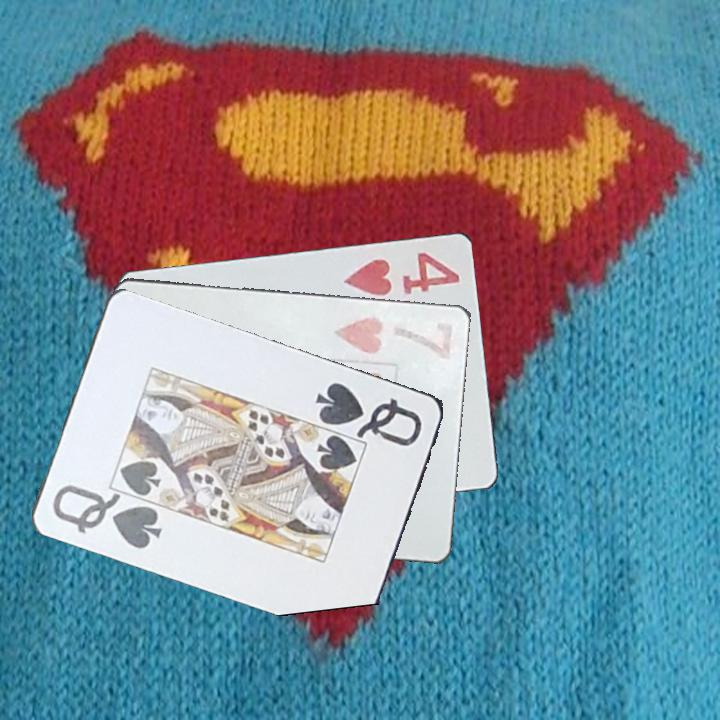4h: (340, 247, 464, 299)
7h: (331, 312, 457, 364)
Qs: (49, 480, 166, 552), (312, 378, 426, 449)
